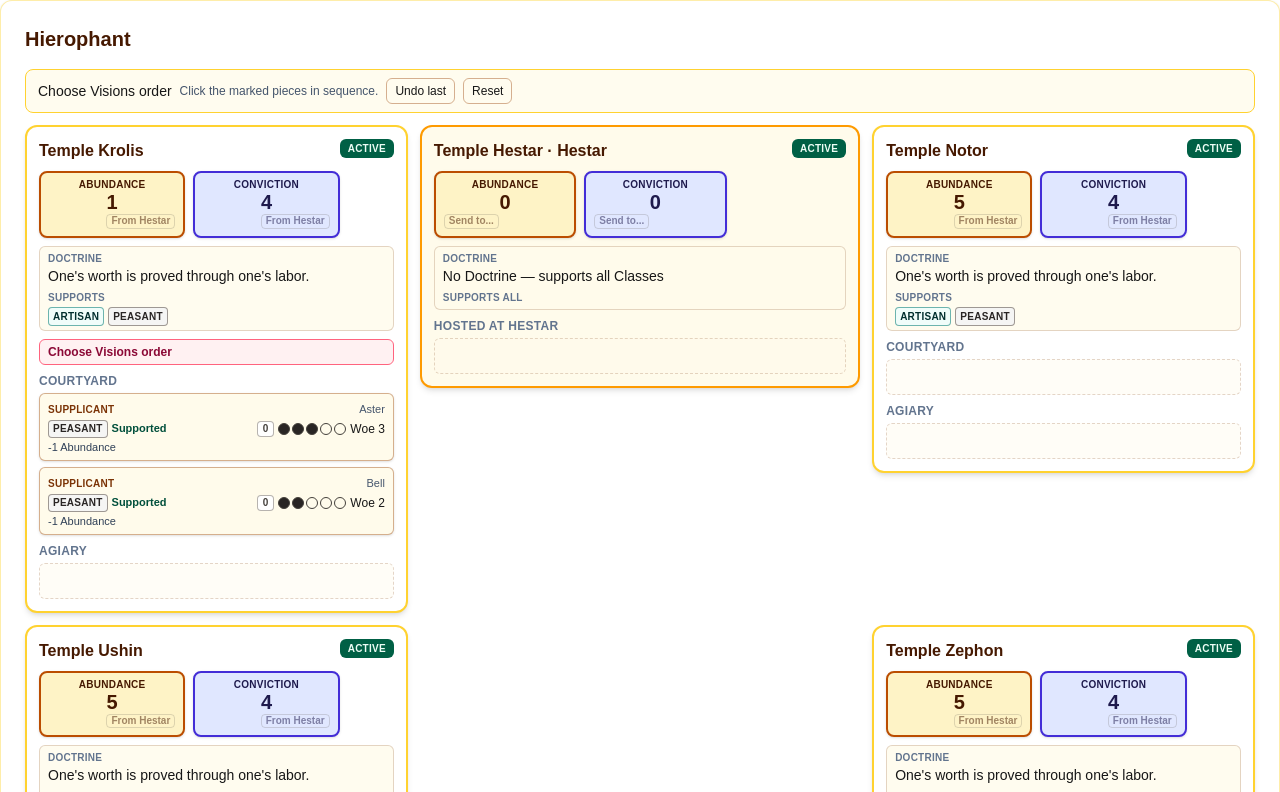
Test: Hierophant Visions preview choices › exposes order picking only for planner-declared ambiguity and never prefills it
Later steps or results of the test are not shown.
Expected: the element named "Temple Krolis board" shows "Choose Visions order", [48,345,172,359]
Expected: the button "Supplicant Aster" is shown, [48,403,385,417]
Click the button "Supplicant Bell".
click(81, 483)  # box [48,477,385,491]
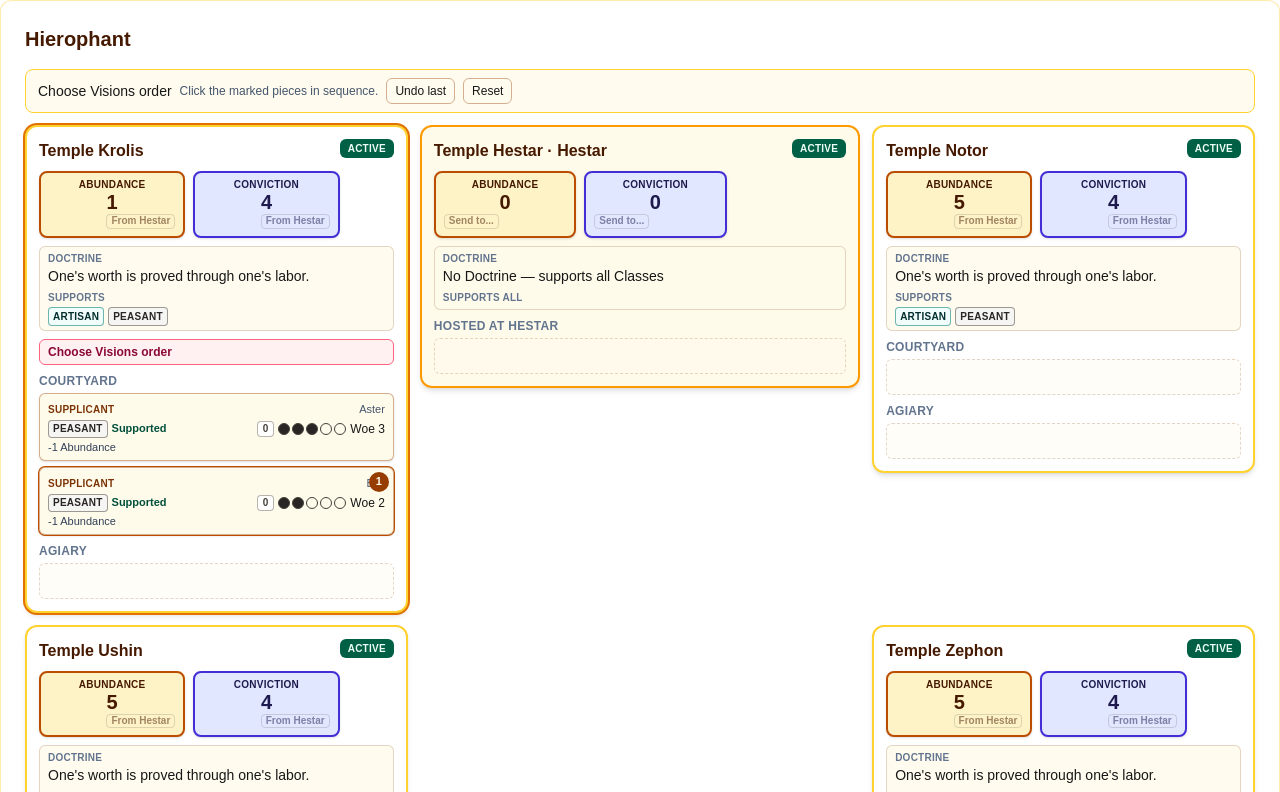
Expected: the element named "Abundance 1" is shown, [39,171,185,238]
Expected: the text named "Visions order 1" reads "1", [376,475,382,487]
Click the button "Supplicant Aster".
click(81, 409)  # box [48,403,385,417]
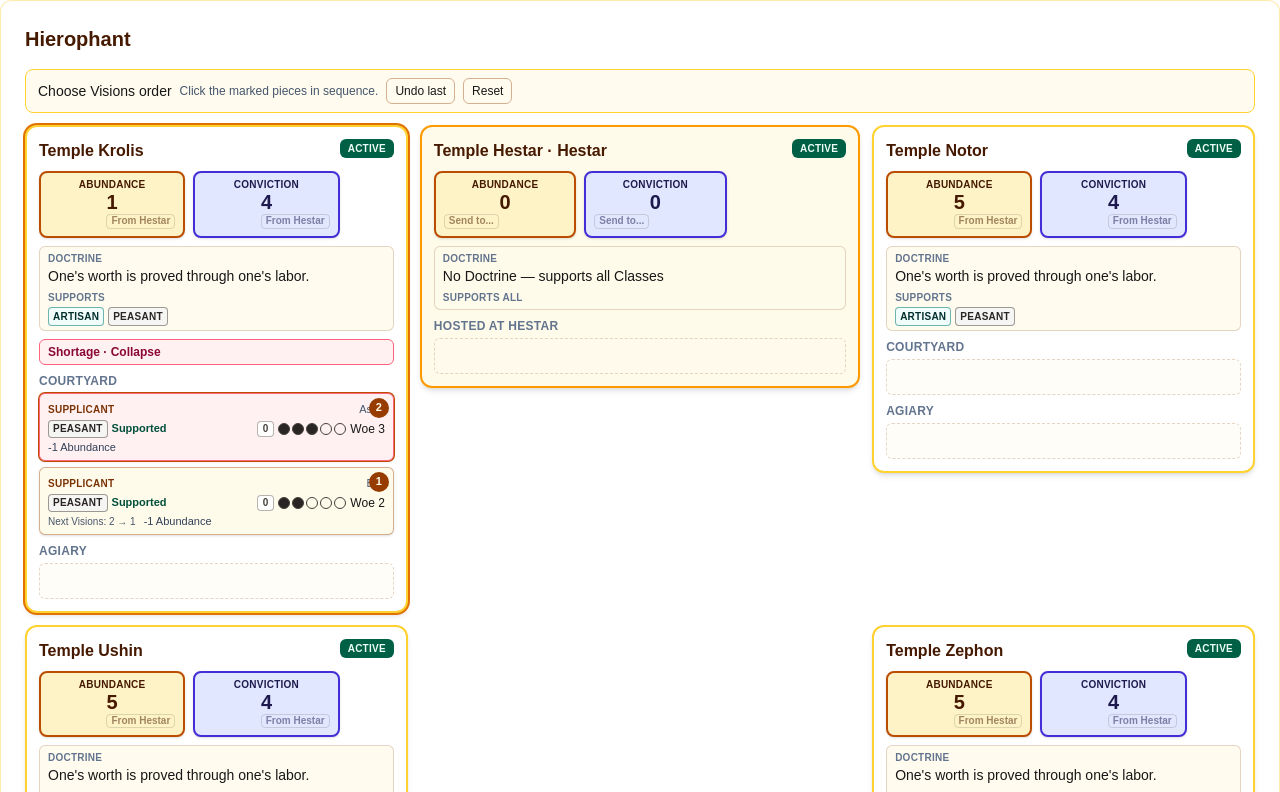
Expected: the text named "Visions order 2" reads "2", [376,401,382,413]
Expected: the element named "Temple Krolis board" shows "Shortage · Collapse", [48,345,161,359]
